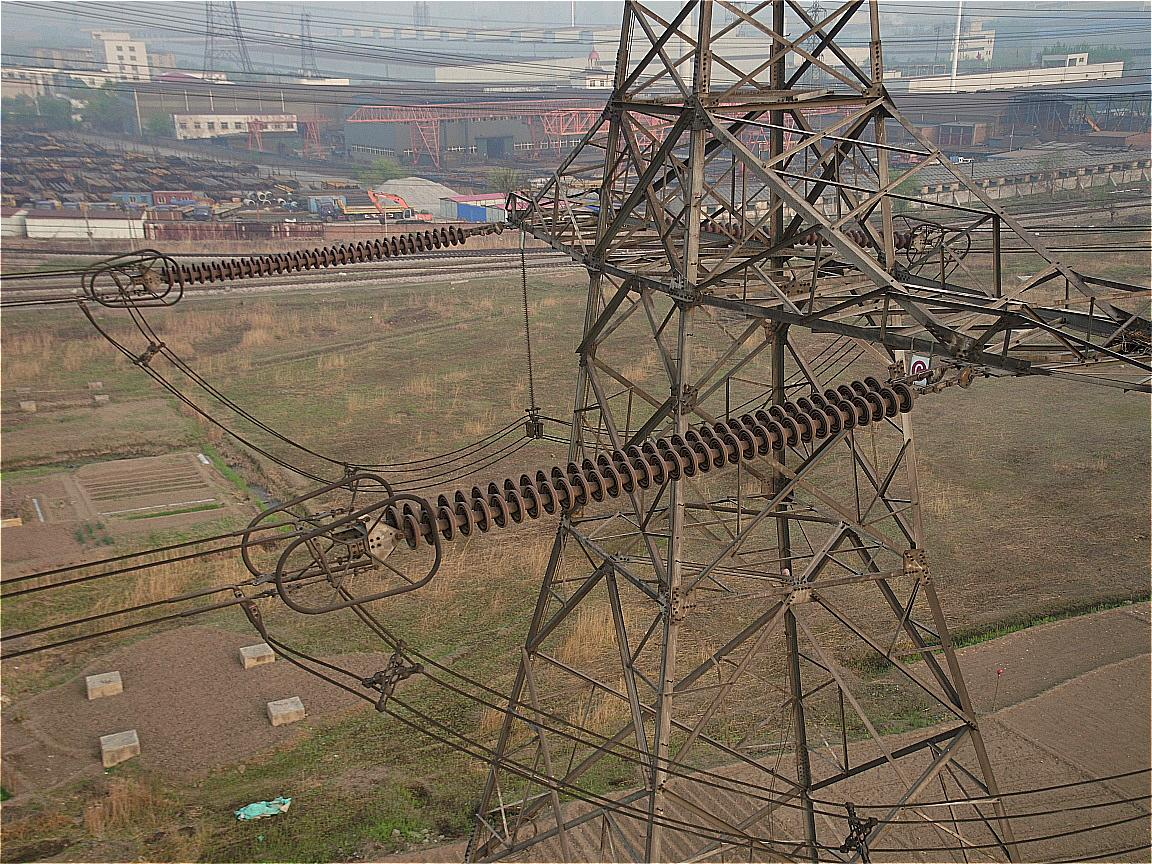insultor1: (383, 376, 913, 547), (165, 224, 466, 288)
